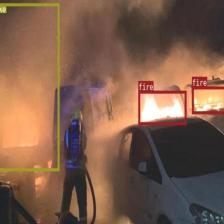fire: (138, 90, 186, 124), (191, 86, 224, 114)
smoke: (0, 2, 59, 170)
